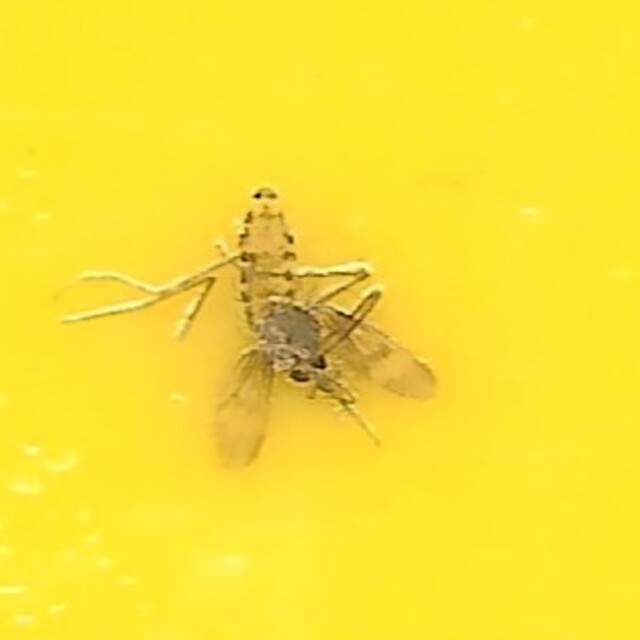Nematocera: (204, 172, 436, 468)
